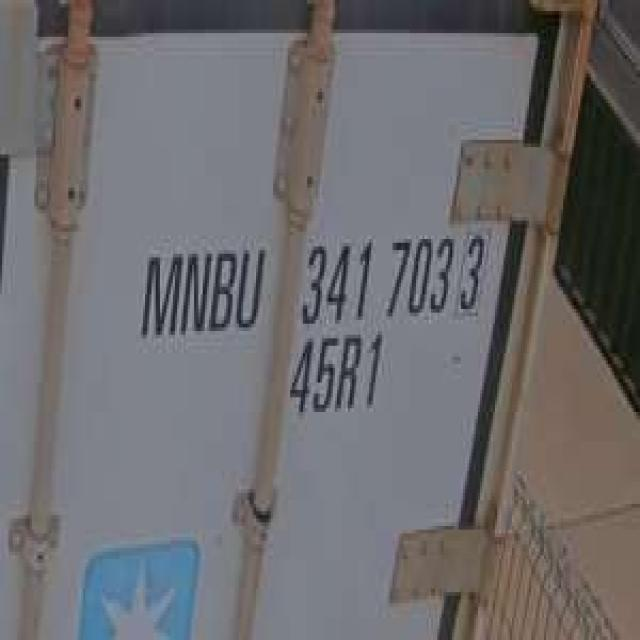dv: (456, 233, 489, 324)
owner: (139, 240, 266, 344)
serial: (301, 232, 454, 328)
size: (288, 330, 387, 426)
